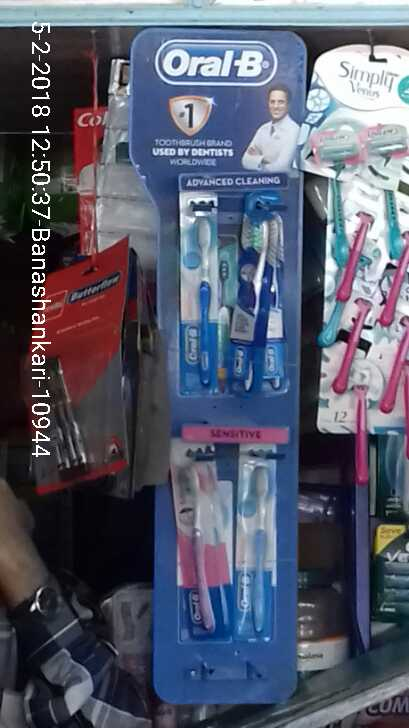oralb: (169, 435, 235, 637), (242, 189, 287, 396), (179, 193, 217, 390), (239, 449, 278, 640)
